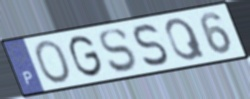6: (198, 10, 233, 57)
G: (68, 33, 105, 79)
O: (33, 39, 75, 85)
Q: (164, 16, 208, 63)
S: (97, 27, 139, 75), (132, 22, 171, 68)
